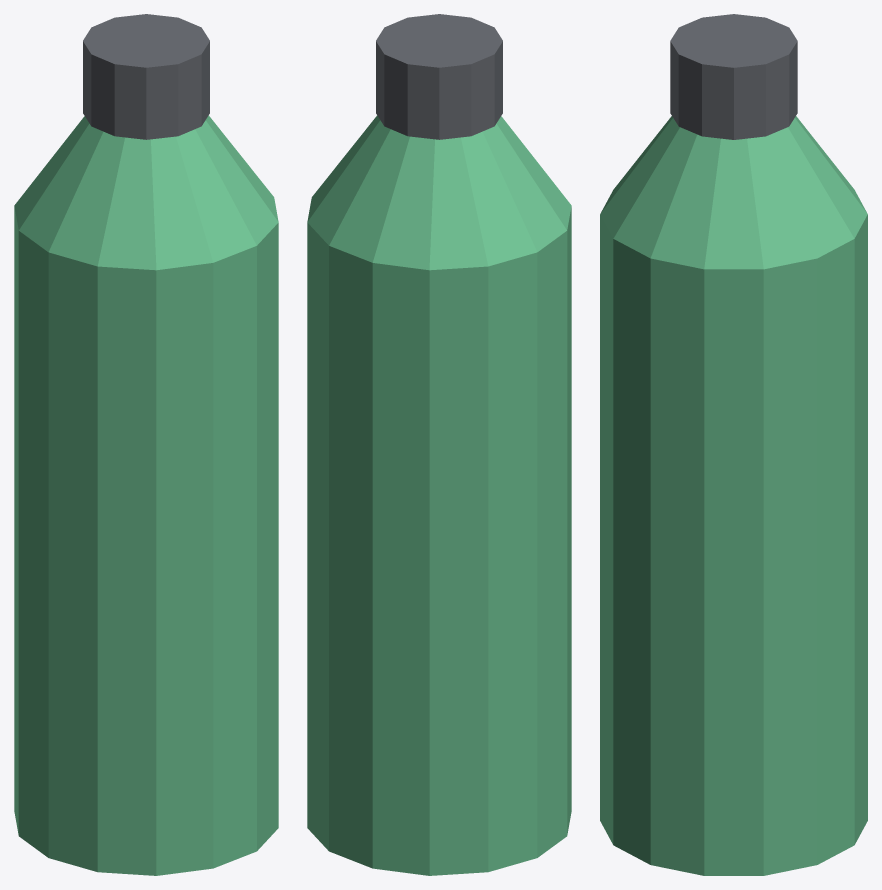
Rendered from Prop_WaterBottle_Green.glb.
3 views of the same model, side by side, from view 1: azimuth 30°, elevation 25°; view 2: azimuth 150°, elevation 25°; view 3: azimuth 270°, elevation 25° (orthographic).
Parts seen in each view (by area): view 1: Body, Shoulder, Cap; view 2: Body, Shoulder, Cap; view 3: Body, Shoulder, Cap.
Boxes of the visible parts, x1,y1,x2,y2 form: Body: (14, 207, 278, 875); Shoulder: (14, 115, 278, 270); Cap: (83, 14, 209, 139); Body: (307, 207, 571, 875); Shoulder: (307, 115, 571, 270); Cap: (376, 14, 502, 139); Body: (600, 214, 867, 875); Shoulder: (600, 116, 867, 269); Cap: (670, 14, 797, 139).
Size of the model in its own units: 0.0819 by 0.27 by 0.084.
